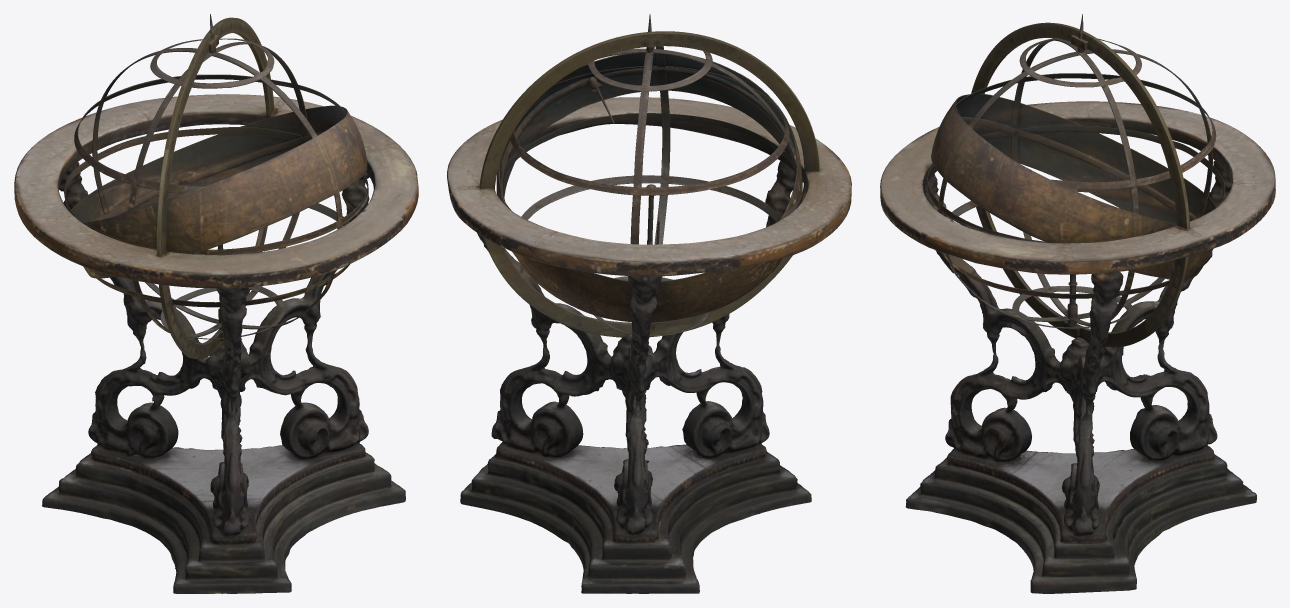
The picture shows the model from 3 angles, left to right: view 1: azimuth 30°, elevation 25°; view 2: azimuth 150°, elevation 25°; view 3: azimuth 270°, elevation 25°; orthographic projection. The views are drawn at different scales.
Parts seen in each view (by area): view 1: Object_2, Object_3; view 2: Object_2, Object_3; view 3: Object_2, Object_3.
Boxes of the visible parts, x1,y1,x2,y2 form: Object_2: [14, 96, 418, 593]; Object_3: [14, 14, 411, 555]; Object_2: [447, 97, 851, 593]; Object_3: [448, 14, 847, 593]; Object_2: [891, 104, 1272, 593]; Object_3: [880, 14, 1275, 559].
Bounding box in the file's own units: 16.93 × 23.52 × 16.93.
1 material, 1 textured.
